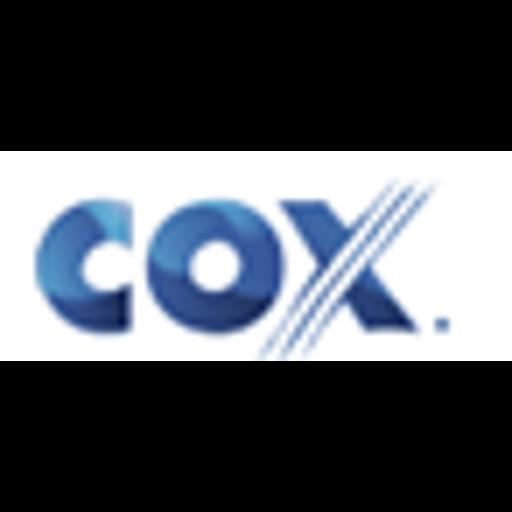Cox Communications: (0, 151, 512, 361)
